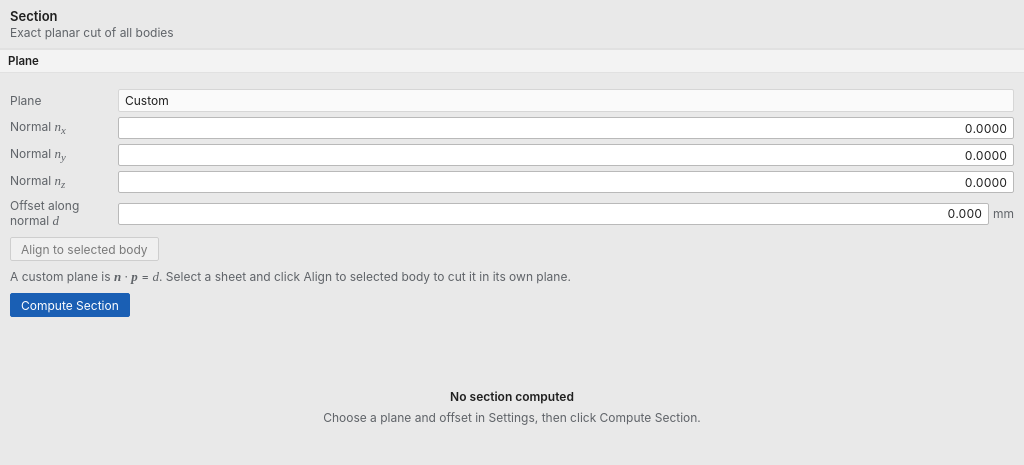
Test: SectionView › refuses a zero normal instead of computing a guessed plane
The width and height of the screenshot is (1024, 465).
Click the button "Compute Section" at (70, 305), box [10,293,130,317]
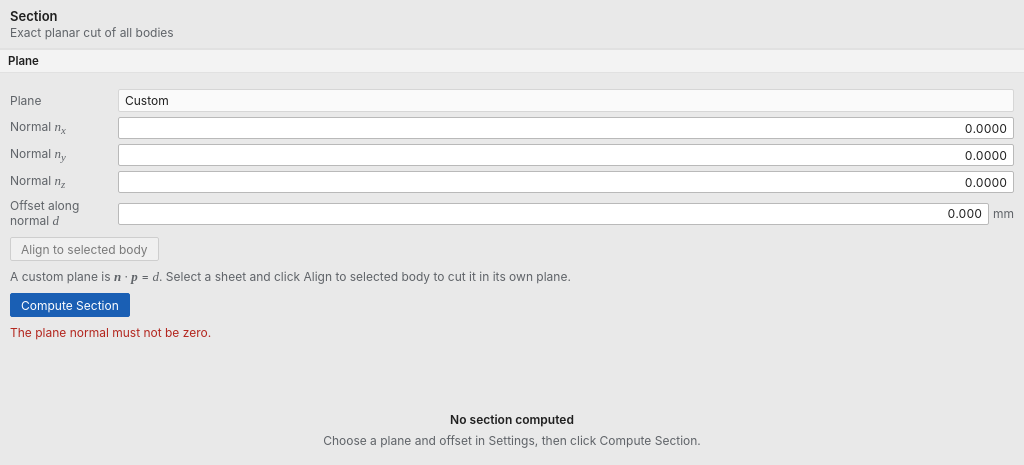
Check: the message shows "normal must not be zero", box [10,325,211,340]
